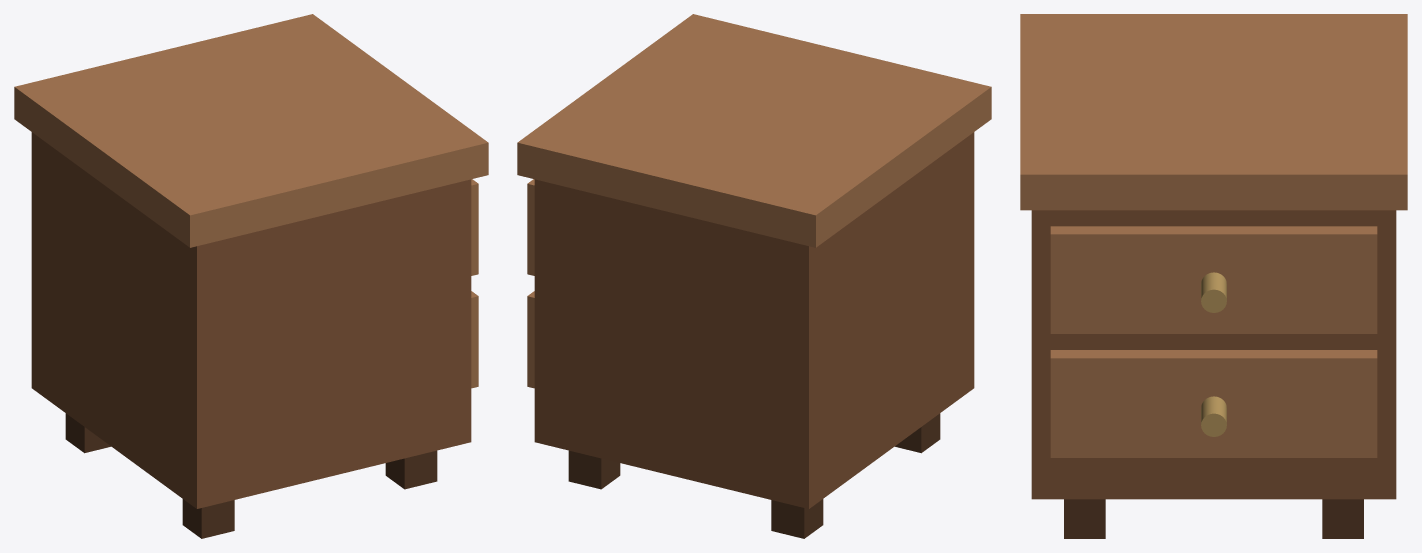
The model's file is nightstand.glb.
The picture shows the model from 3 angles, left to right: view 1: azimuth 30°, elevation 25°; view 2: azimuth 150°, elevation 25°; view 3: azimuth 270°, elevation 25°; orthographic projection. The views are drawn at different scales.
Visible parts, largest first — view 1: 床头柜柜体, 床头柜台面, 床头柜腿 (×3), 抽屉面板 (×2); view 2: 床头柜柜体, 床头柜台面, 床头柜腿 (×3), 抽屉面板 (×2); view 3: 床头柜台面, 抽屉面板 (×2), 床头柜柜体, 床头柜腿 (×2), 黄铜抽屉拉手 (×2).
Boxes of the visible parts, <box> form: 床头柜柜体: <box>31,132,471,508</box>; 床头柜台面: <box>14,14,488,247</box>; 床头柜腿 (×3): <box>65,413,437,538</box>; 抽屉面板 (×2): <box>471,179,478,388</box>; 床头柜柜体: <box>534,132,974,508</box>; 床头柜台面: <box>517,14,991,247</box>; 床头柜腿 (×3): <box>568,413,940,538</box>; 抽屉面板 (×2): <box>527,179,534,388</box>; 床头柜台面: <box>1020,14,1407,210</box>; 抽屉面板 (×2): <box>1050,226,1377,457</box>; 床头柜柜体: <box>1031,210,1396,499</box>; 床头柜腿 (×2): <box>1064,499,1363,538</box>; 黄铜抽屉拉手 (×2): <box>1201,272,1226,436</box>.
Size of the model in its own units: 0.56 by 0.5535 by 0.51.
